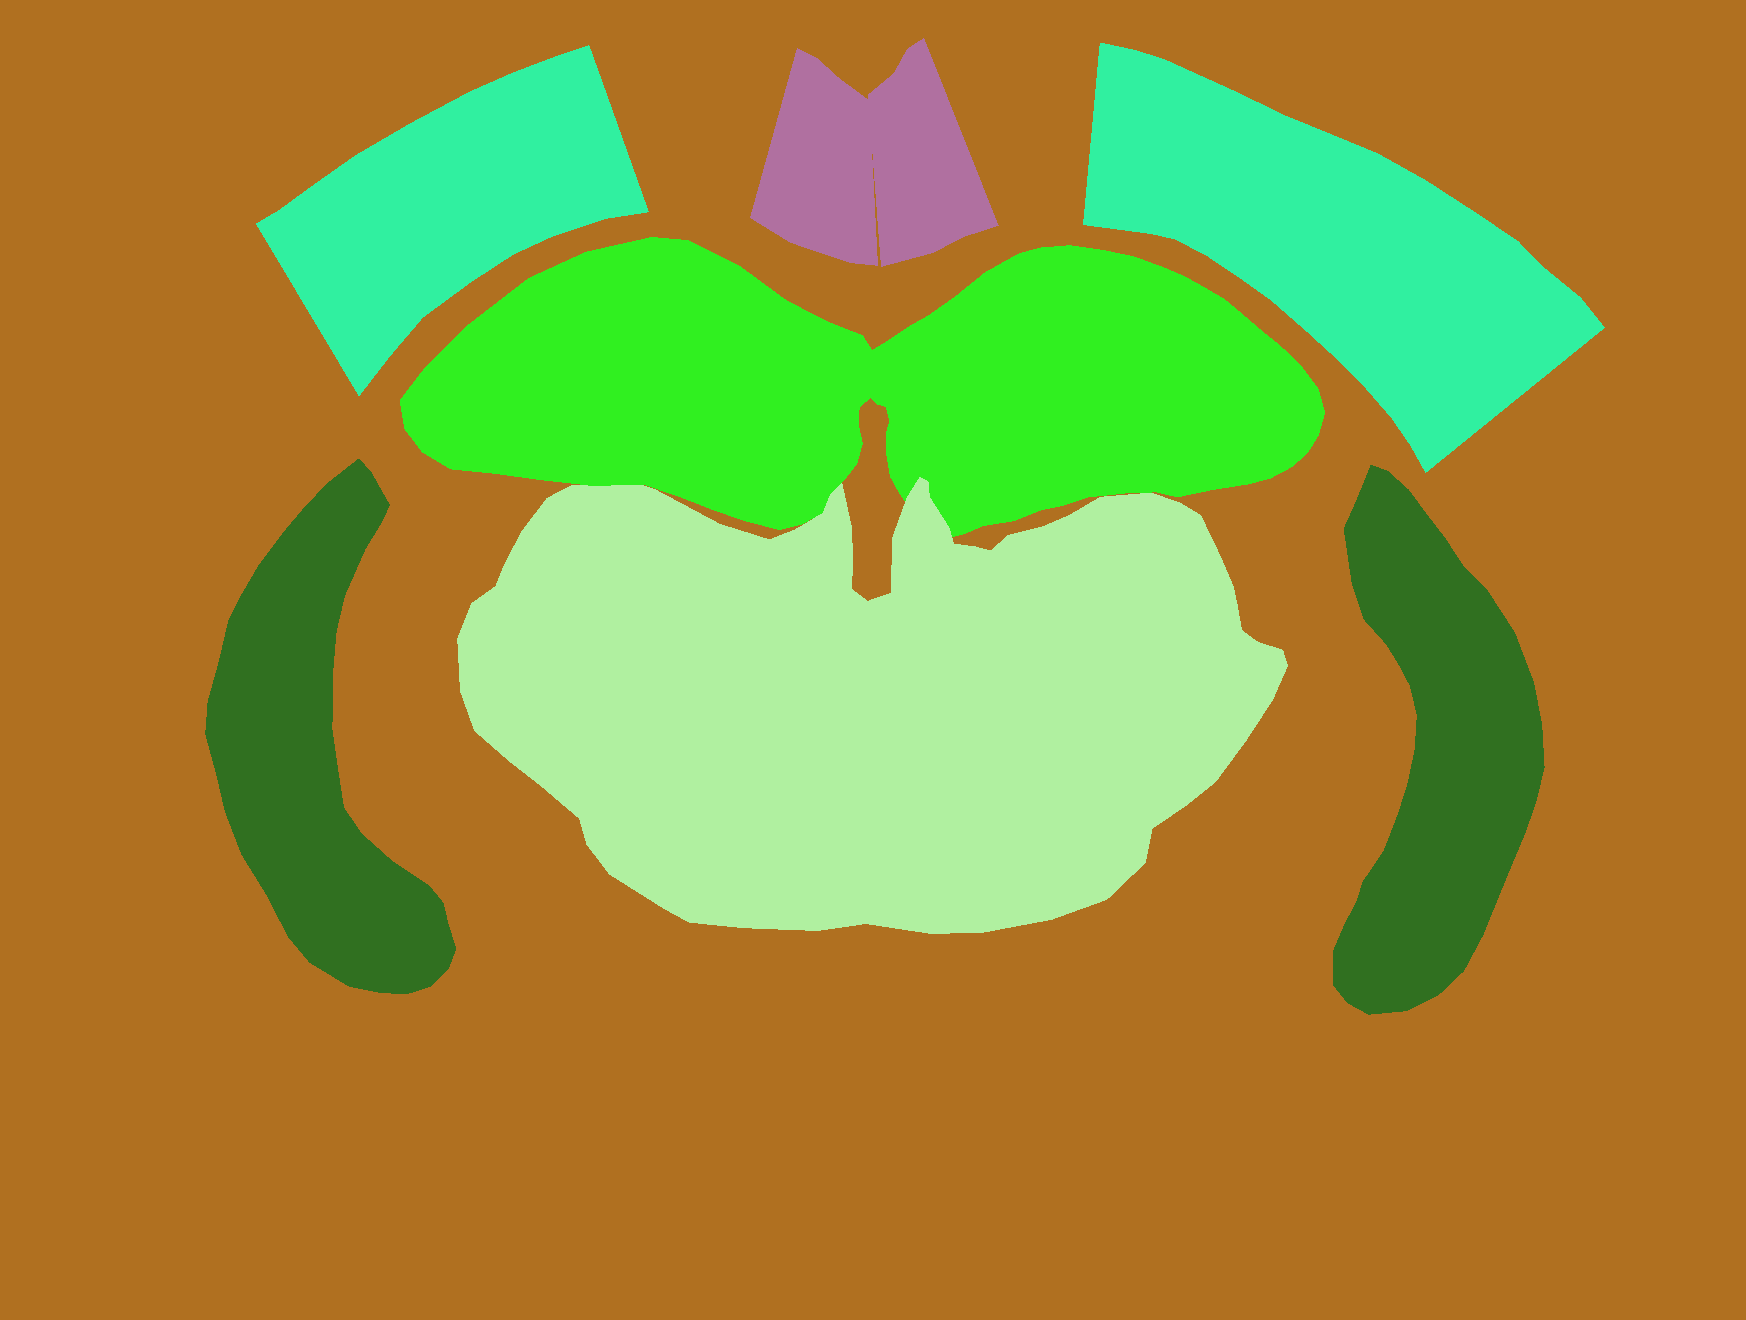Cerebral nuclei: (205, 458, 456, 994), (1333, 464, 1545, 1015)
Hippocampal formation: (399, 237, 881, 530), (864, 245, 1324, 539)
Retrosplenial area: (868, 37, 999, 268), (750, 49, 878, 266)
Somatosensory area: (1083, 42, 1605, 473), (257, 44, 649, 397)
Thalamus: (865, 477, 1288, 935), (458, 471, 870, 930)
